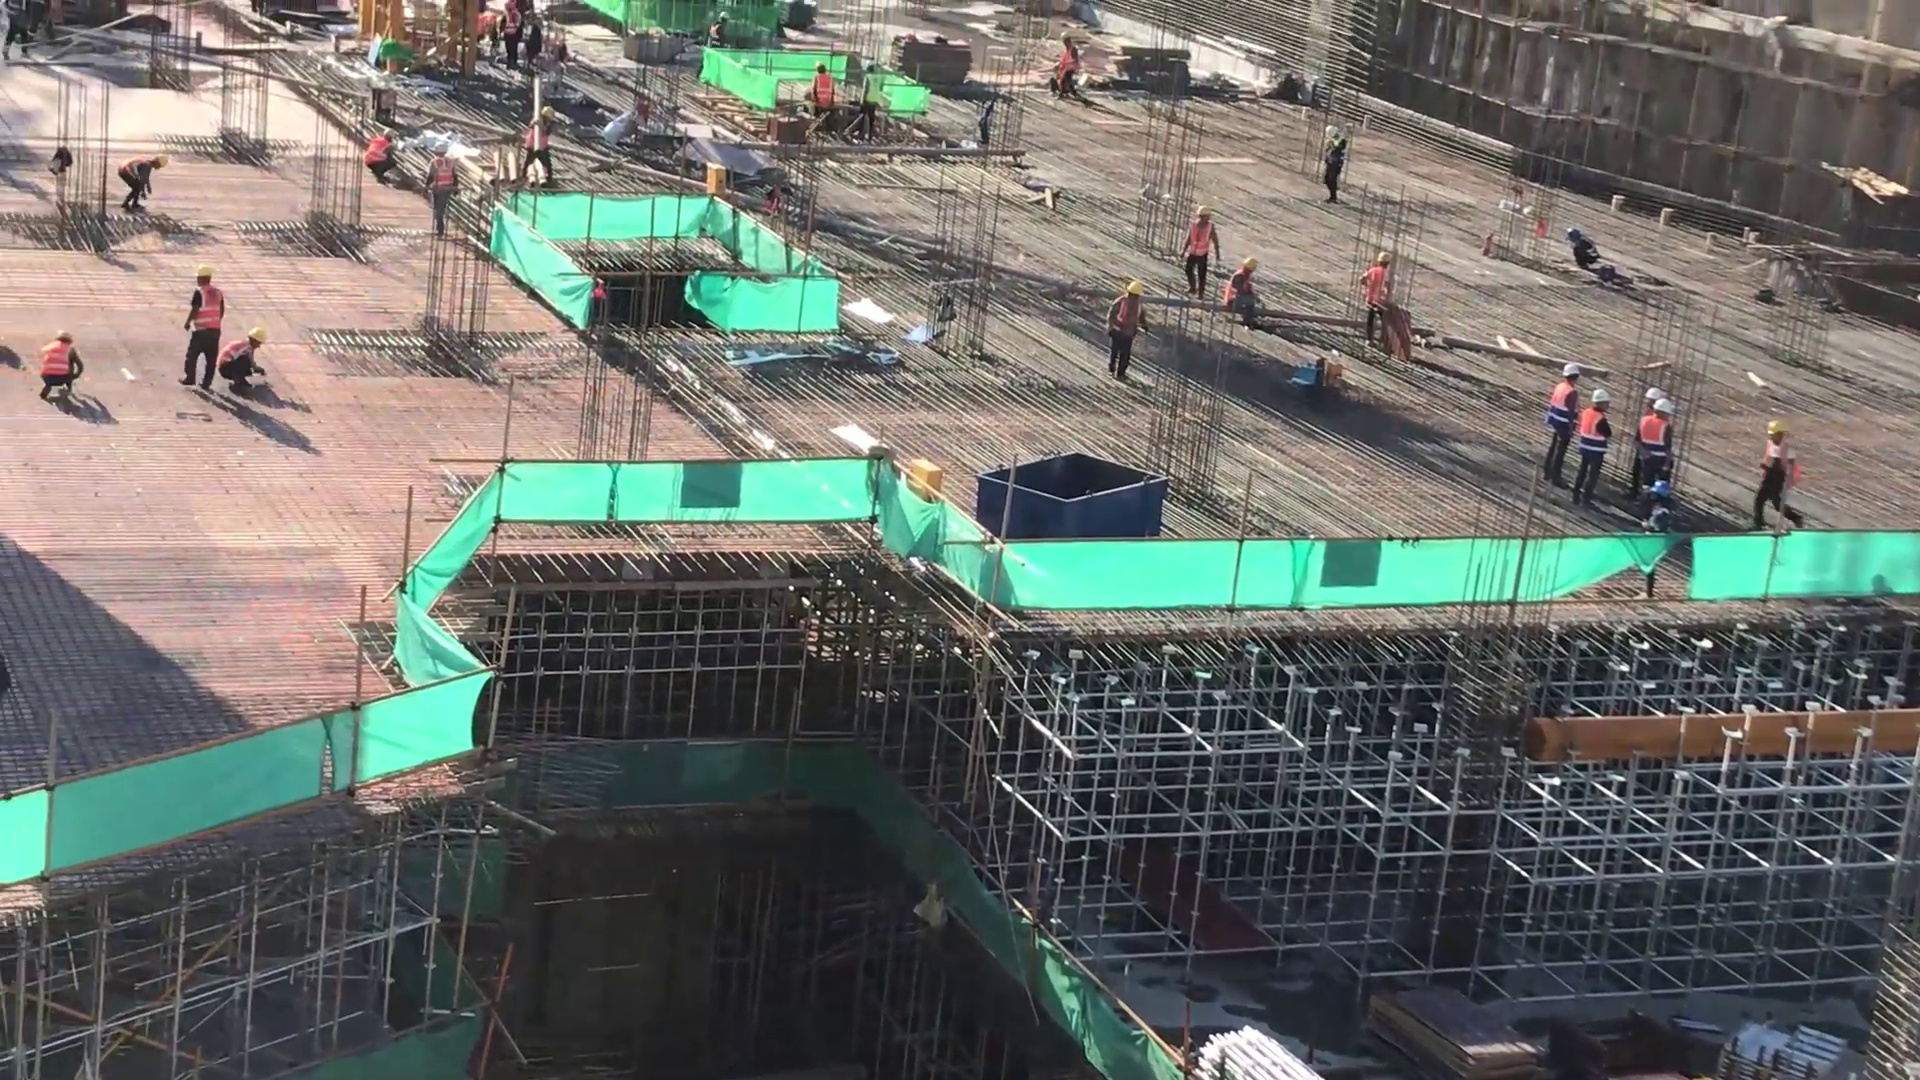ebox: (903, 451, 944, 500), (695, 154, 727, 196)
helmet: (1554, 352, 1702, 421)
hopper: (963, 444, 1175, 543)
person: (1633, 383, 1685, 526), (181, 263, 226, 400), (1756, 422, 1805, 533), (1545, 359, 1581, 486), (1578, 382, 1613, 514), (1105, 279, 1148, 377), (421, 139, 463, 239), (1359, 247, 1399, 349), (38, 332, 88, 413), (216, 326, 270, 398), (1182, 204, 1223, 297), (116, 152, 174, 215), (522, 102, 562, 184), (1224, 255, 1263, 333), (1320, 117, 1351, 206), (364, 127, 400, 187), (1561, 223, 1610, 267), (807, 57, 835, 115)
vest: (189, 282, 228, 334), (1636, 414, 1675, 461), (37, 341, 74, 381), (1549, 380, 1576, 426), (1577, 414, 1606, 452)
